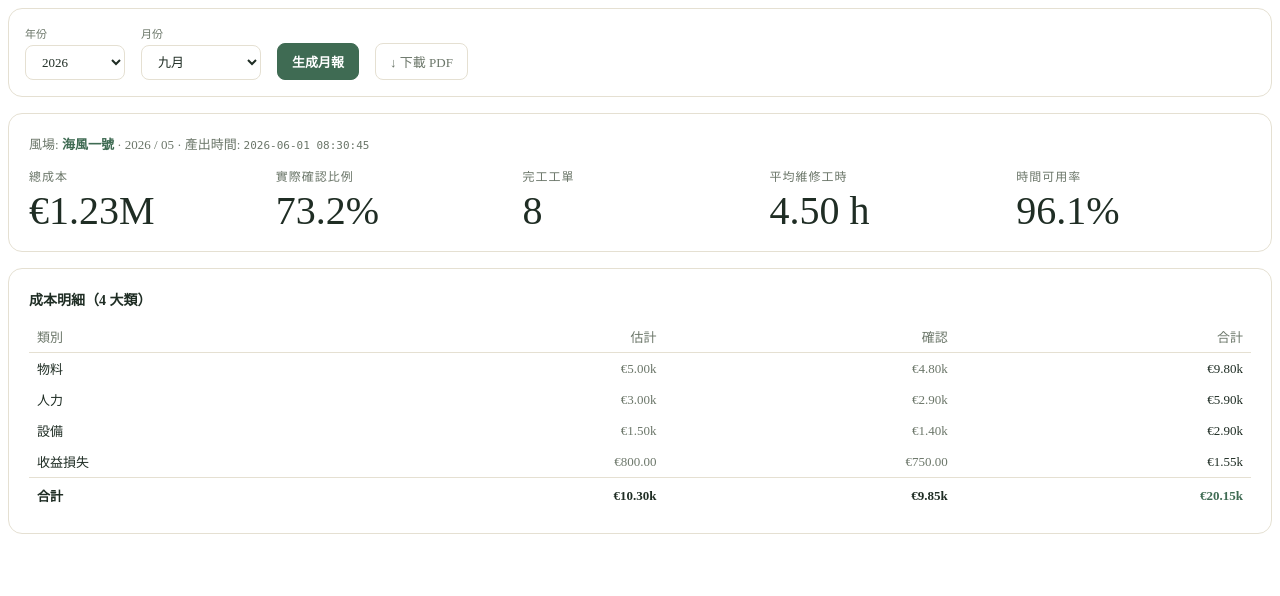
Test case: MonthlyReportPanel — 雙 error 獨立顯示 › 再次點生成 → 清掉舊 download error（generate 不殘留下載錯誤）
What coordinates should you click on to do the following:
click the button "↓ 下載 PDF"
I would click on:
 (421, 62)
Its box is [375,43,468,80].
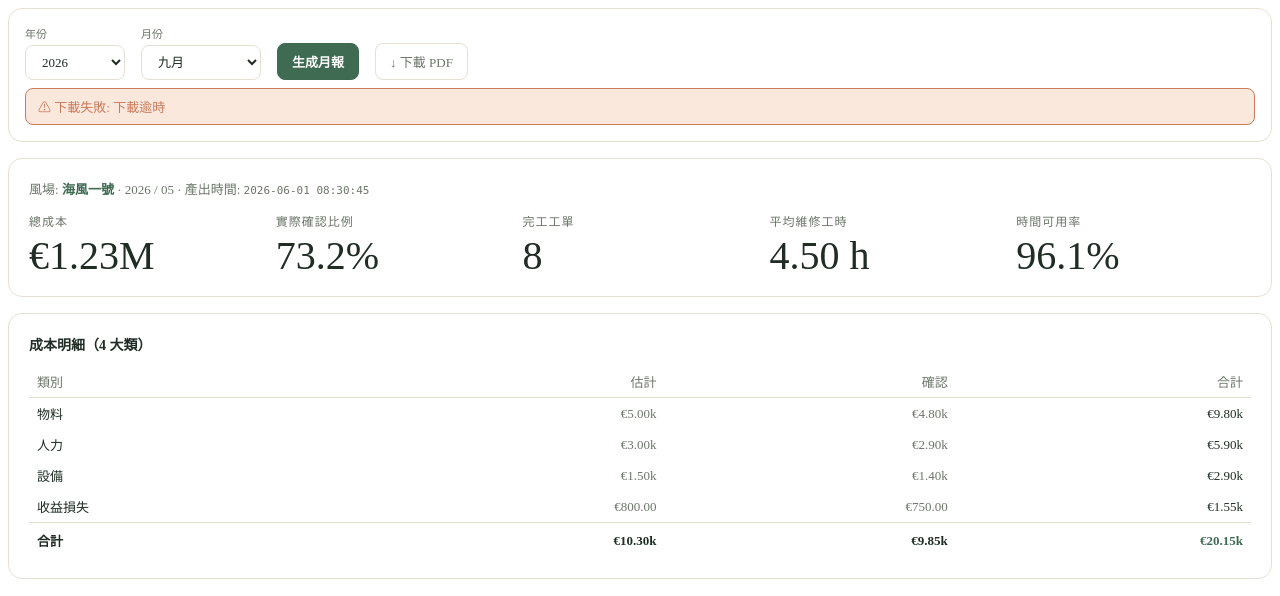
Result: the text "⚠ 下載失敗: 下載逾時" is shown at [25,88,1255,125]
Note: 再次生成應清掉 download error
What coordinates should you click on to do the following:
click the button "生成月報"
I would click on:
 (318, 62)
Its box is [277,43,359,80].
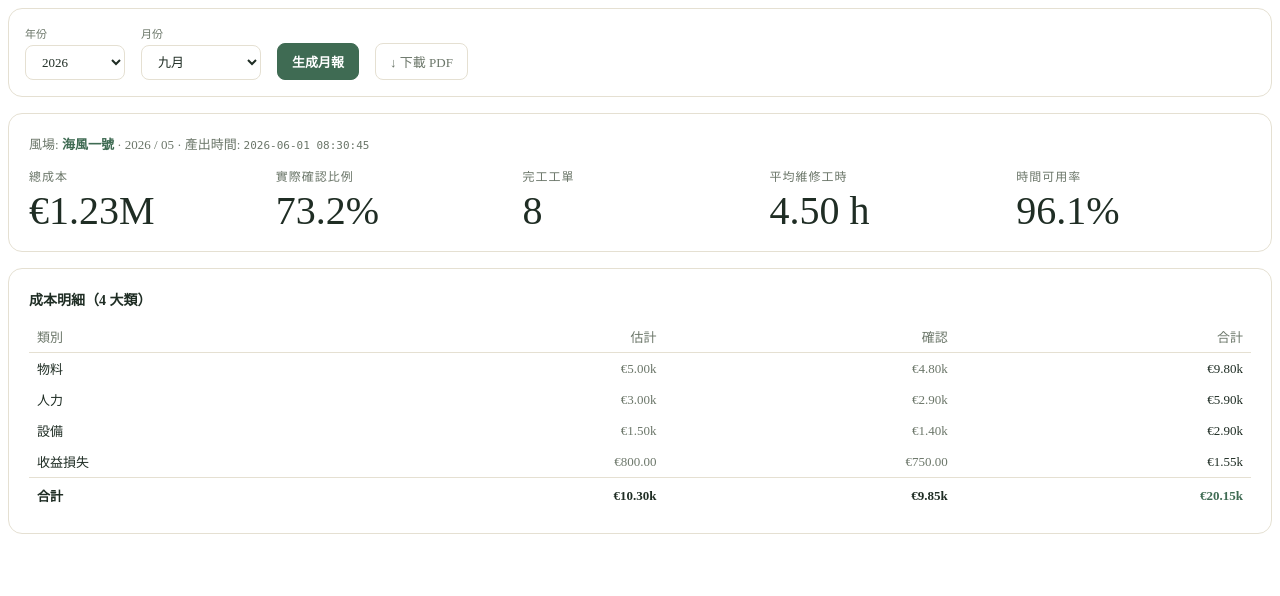
Result: the text "⚠ 下載失敗: 下載逾時" is gone
